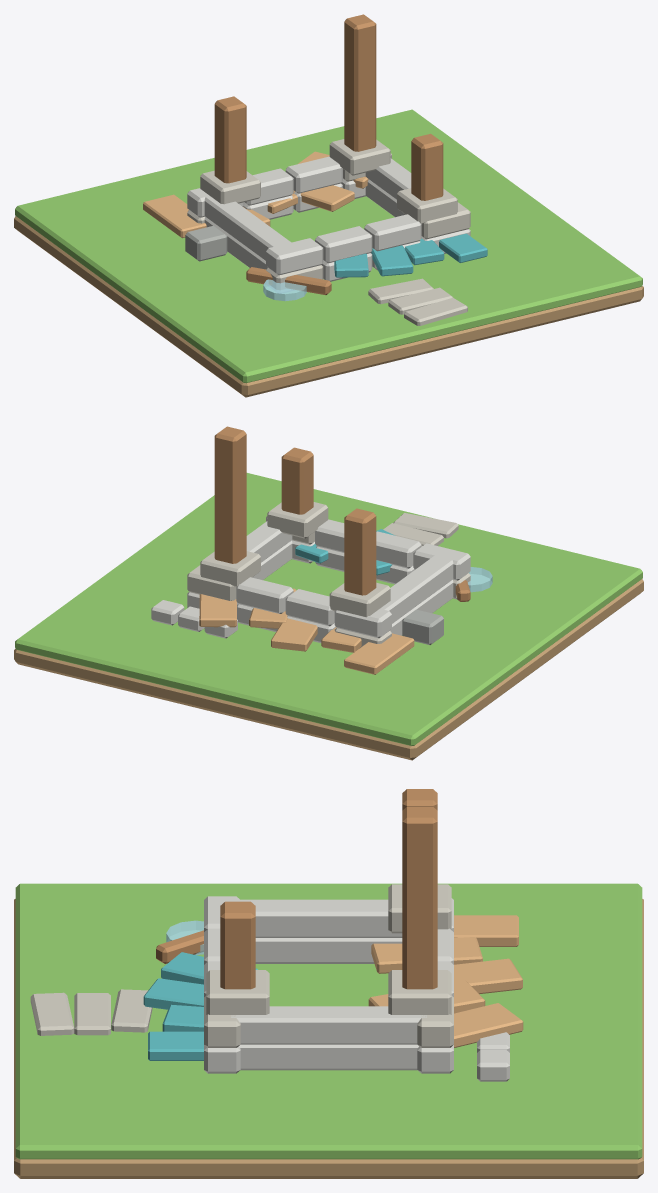
The model's file is tower_l03_ruined_LOD0.glb.
The picture shows the model from 3 angles, top to bottom: view 1: azimuth 30°, elevation 25°; view 2: azimuth 150°, elevation 25°; view 3: azimuth 270°, elevation 25°; orthographic projection. The views are drawn at different scales.
Parts seen in each view (by area): view 1: tower_l03_grass_tile, tower_l03_earth_tile, snapped_upright_0.58_0.52, snapped_upright_-0.58_0.52, ruin_stone_return_1_-0.72, snapped_upright_0.58_-0.52, ruin_stone_course_1_-1_0, ruin_stone_course_1_-1_2, ruin_stone_course_1_1_2, ruin_stone_course_1_-1_1, foot_remnant_0.58_0.52, collapsed_deck_0 (+19 smaller); view 2: tower_l03_grass_tile, tower_l03_earth_tile, snapped_upright_0.58_0.52, snapped_upright_-0.58_0.52, ruin_stone_return_1_-0.72, snapped_upright_0.58_-0.52, collapsed_deck_0, ruin_stone_course_1_1_2, foot_remnant_0.58_-0.52, foot_remnant_0.58_0.52, foot_remnant_-0.58_0.52, ruin_stone_course_1_1_1 (+17 smaller); view 3: tower_l03_grass_tile, tower_l03_earth_tile, snapped_upright_0.58_0.52, ruin_stone_return_1_0.72, ruin_stone_return_1_-0.72, ruin_stone_return_0_0.72, ruin_stone_return_0_-0.72, snapped_upright_0.58_-0.52, foot_remnant_0.58_0.52, foot_remnant_0.58_-0.52, collapsed_deck_4, collapsed_deck_0 (+22 smaller).
Boxes of the visible parts, x1=… form: tower_l03_grass_tile: x1=15, y1=109, x2=642, y2=383; tower_l03_earth_tile: x1=14, y1=216, x2=643, y2=397; snapped_upright_0.58_0.52: x1=344, y1=14, x2=376, y2=151; snapped_upright_-0.58_0.52: x1=214, y1=96, x2=246, y2=183; ruin_stone_return_1_-0.72: x1=204, y1=196, x2=291, y2=260; snapped_upright_0.58_-0.52: x1=411, y1=133, x2=443, y2=200; ruin_stone_course_1_-1_0: x1=266, y1=238, x2=323, y2=275; ruin_stone_course_1_-1_2: x1=364, y1=214, x2=421, y2=251; ruin_stone_course_1_1_2: x1=285, y1=156, x2=342, y2=193; ruin_stone_course_1_-1_1: x1=315, y1=226, x2=372, y2=263; foot_remnant_0.58_0.52: x1=329, y1=139, x2=390, y2=175; collapsed_deck_0: x1=143, y1=194, x2=206, y2=238; tower_l03_grass_tile: x1=15, y1=473, x2=642, y2=745; tower_l03_earth_tile: x1=14, y1=579, x2=643, y2=760; snapped_upright_0.58_0.52: x1=214, y1=426, x2=246, y2=563; snapped_upright_-0.58_0.52: x1=344, y1=508, x2=376, y2=595; ruin_stone_return_1_-0.72: x1=380, y1=555, x2=453, y2=623; snapped_upright_0.58_-0.52: x1=281, y1=447, x2=313, y2=514; collapsed_deck_0: x1=344, y1=633, x2=414, y2=674; ruin_stone_course_1_1_2: x1=236, y1=577, x2=293, y2=613; foot_remnant_0.58_-0.52: x1=267, y1=502, x2=328, y2=538; foot_remnant_0.58_0.52: x1=200, y1=551, x2=260, y2=586; foot_remnant_-0.58_0.52: x1=329, y1=582, x2=390, y2=617; ruin_stone_course_1_1_1: x1=285, y1=589, x2=334, y2=626; tower_l03_grass_tile: x1=15, y1=883, x2=642, y2=1159; tower_l03_earth_tile: x1=14, y1=899, x2=643, y2=1178; snapped_upright_0.58_0.52: x1=402, y1=806, x2=437, y2=989; ruin_stone_return_1_0.72: x1=231, y1=1006, x2=426, y2=1044; ruin_stone_return_1_-0.72: x1=231, y1=899, x2=402, y2=937; ruin_stone_return_0_0.72: x1=239, y1=1044, x2=418, y2=1070; ruin_stone_return_0_-0.72: x1=255, y1=938, x2=402, y2=963; snapped_upright_0.58_-0.52: x1=220, y1=901, x2=255, y2=989; foot_remnant_0.58_0.52: x1=388, y1=970, x2=451, y2=1014; foot_remnant_0.58_-0.52: x1=206, y1=970, x2=269, y2=1014; collapsed_deck_4: x1=454, y1=1003, x2=523, y2=1047; collapsed_deck_0: x1=454, y1=915, x2=518, y2=946.
Bounding box in the file's own units: 3.6 × 1.76 × 3.6.
